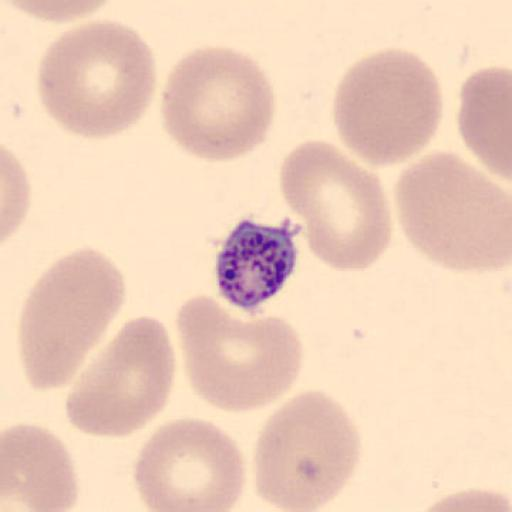Platelet: (211, 214, 302, 316)
RBC: (16, 246, 128, 392), (279, 136, 394, 274), (177, 296, 305, 415), (35, 18, 158, 140), (394, 149, 512, 274), (64, 314, 178, 439), (160, 44, 277, 165), (330, 47, 444, 169), (251, 388, 363, 512), (132, 416, 248, 512), (2, 423, 80, 512), (456, 64, 512, 181), (1, 146, 32, 246), (3, 0, 119, 24), (412, 486, 511, 512)
